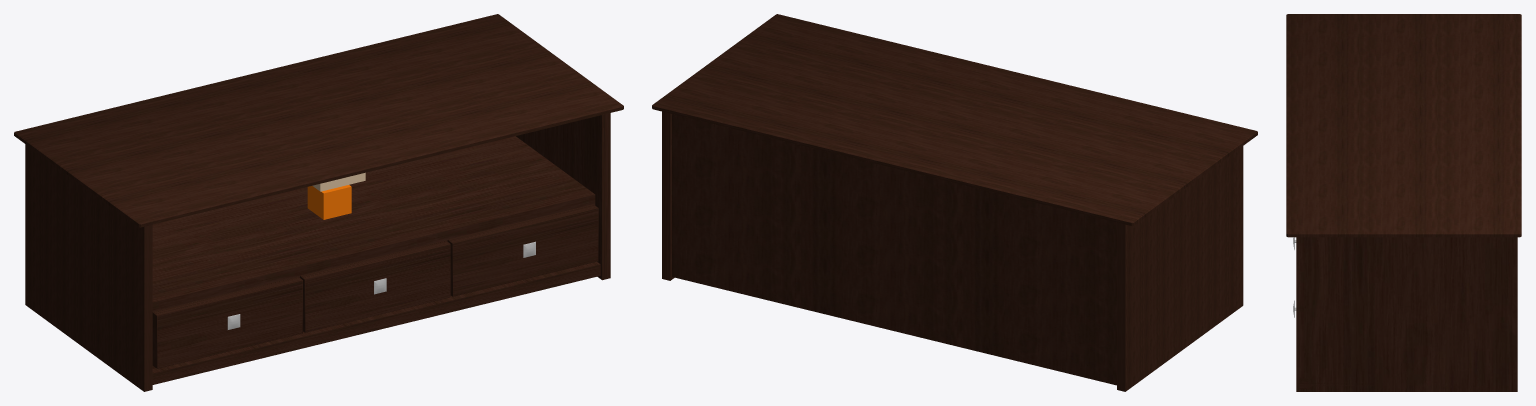
The model's file is wooden-cab1.glb.
3 renders of one model, left to right at view 1: azimuth 30°, elevation 25°; view 2: azimuth 150°, elevation 25°; view 3: azimuth 270°, elevation 25°, orthographic. The views are drawn at different scales.
Visible parts, largest first — view 1: Cube_8_PBR_0.001; view 2: Cube_8_PBR_0.001; view 3: Cube_8_PBR_0.001.
Part boxes in pixels (<box>): Cube_8_PBR_0.001: <box>14,14,623,391</box>; Cube_8_PBR_0.001: <box>652,14,1257,391</box>; Cube_8_PBR_0.001: <box>1286,14,1521,391</box>.
Bounding box in the file's own units: 2.62 × 0.8996 × 1.18.
Materials: 5 (1 with a texture image).
